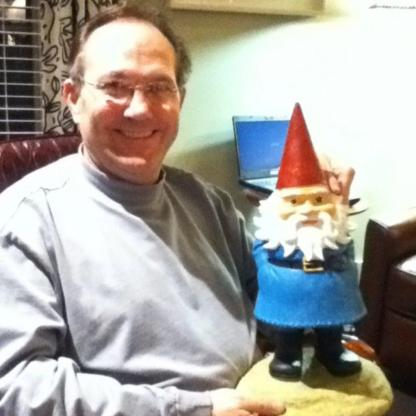board: (232, 112, 361, 207)
